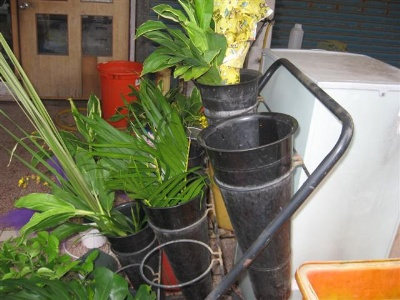bottle: (197, 111, 301, 300), (143, 187, 211, 300), (288, 23, 304, 50)
bucket: (96, 59, 143, 129)
